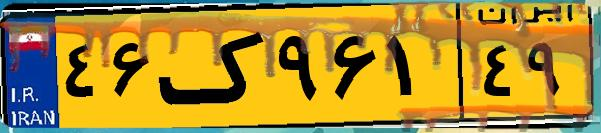1: (385, 28, 445, 110)
4: (57, 26, 110, 100), (475, 38, 525, 113)
6: (330, 28, 385, 110), (110, 28, 158, 98)
9: (270, 28, 330, 110), (525, 38, 570, 115)
ک: (158, 12, 270, 120)
